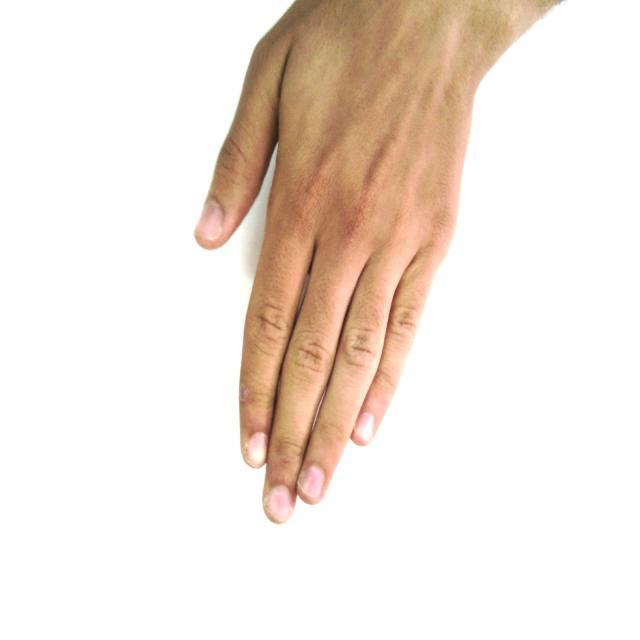Fingernail: (197, 201, 222, 239), (267, 486, 291, 520), (300, 466, 324, 498), (247, 433, 268, 468), (355, 413, 375, 442)
